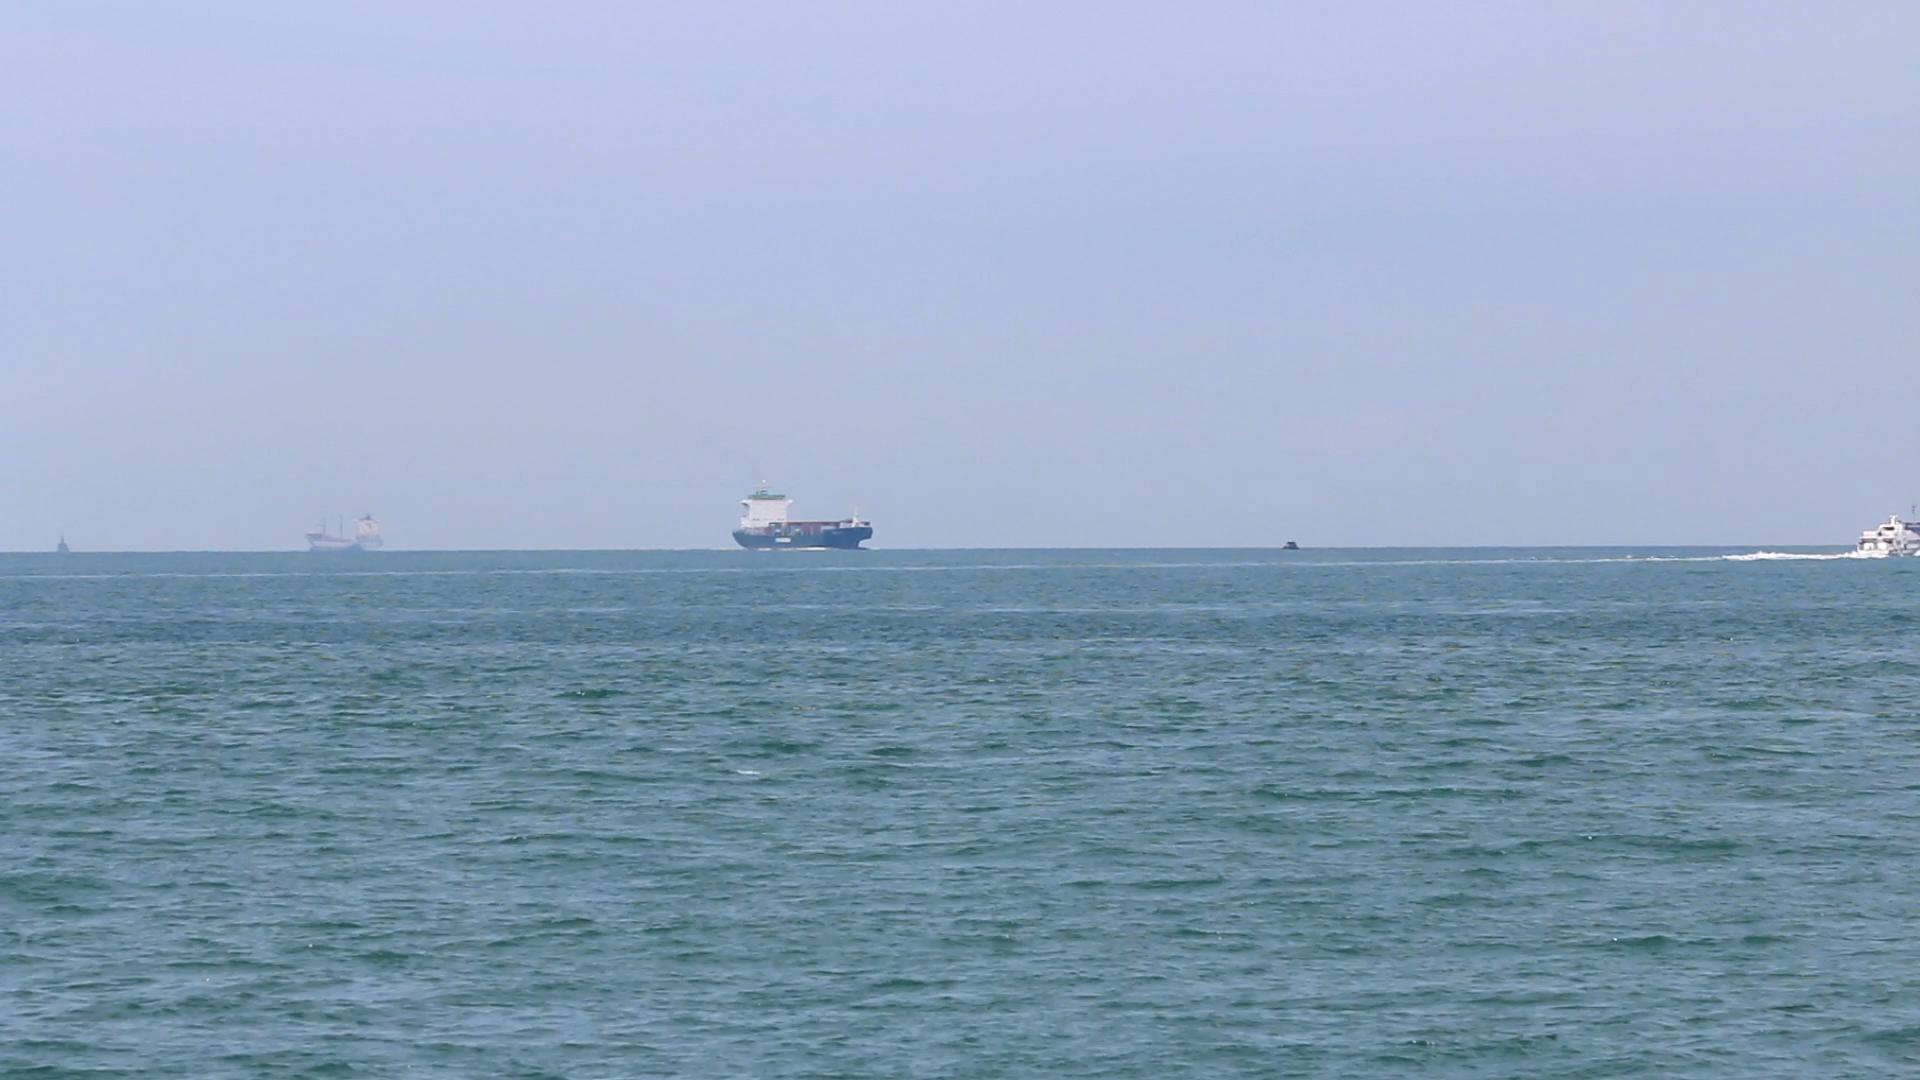Container Ship: (728, 469, 878, 559), (302, 497, 396, 554)
